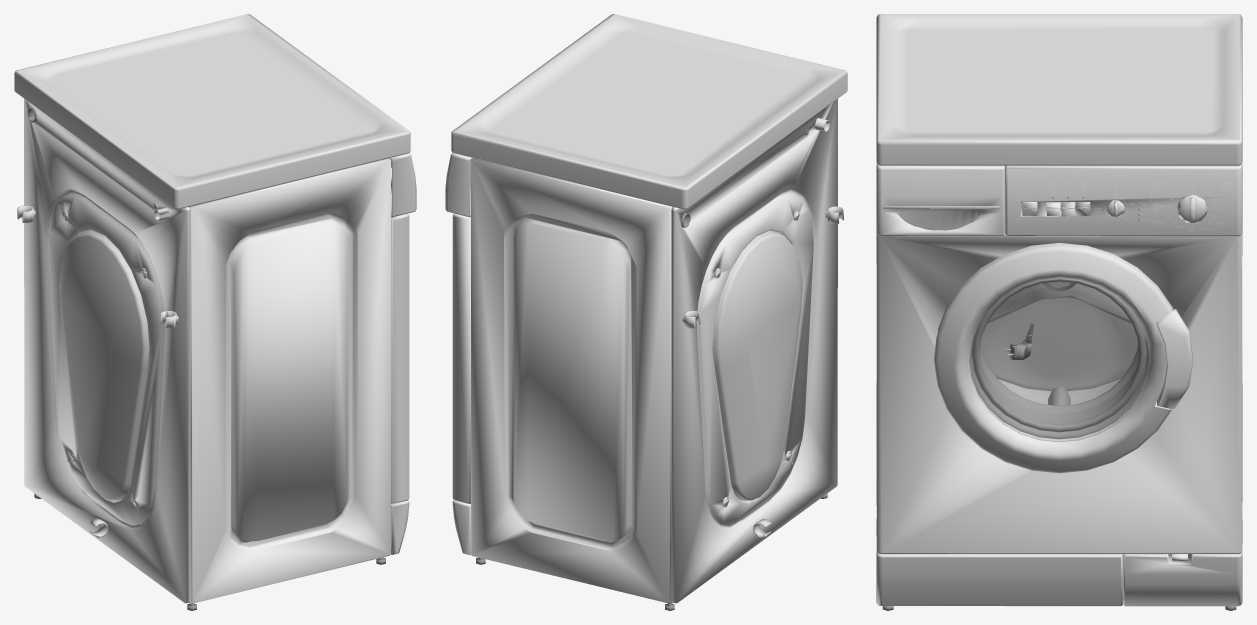
The model's file is washing_machine_2.glb.
3 renders of one model, left to right at view 1: azimuth 30°, elevation 25°; view 2: azimuth 150°, elevation 25°; view 3: azimuth 270°, elevation 25°, orthographic. The views are drawn at different scales.
Visible parts, largest first — view 1: polySurface115_steel_0; view 2: polySurface115_steel_0; view 3: polySurface115_steel_0, polySurface118_glass_0, polySurface120_lambert2_0.
Part boxes in pixels (x1,y1,x2,y2): polySurface115_steel_0: (14,14,416,610); polySurface115_steel_0: (445,14,847,610); polySurface115_steel_0: (876,14,1242,610); polySurface118_glass_0: (969,279,1149,440); polySurface120_lambert2_0: (1027,182,1233,231).
Bounding box in the file's own units: 15.27 × 23.55 × 16.26.
Materials: 3 (3 with a texture image).
